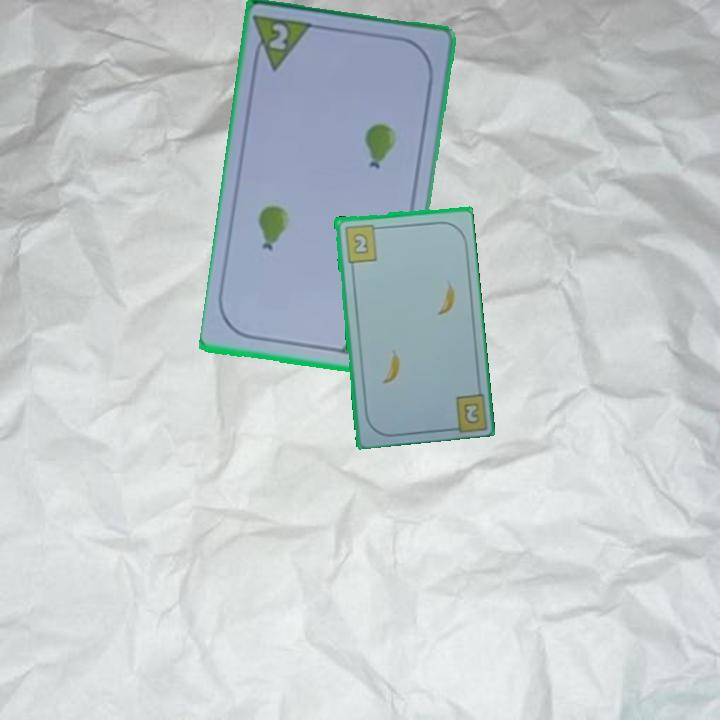2b: (341, 220, 383, 265), (460, 399, 482, 427)
2p: (249, 12, 318, 76)
